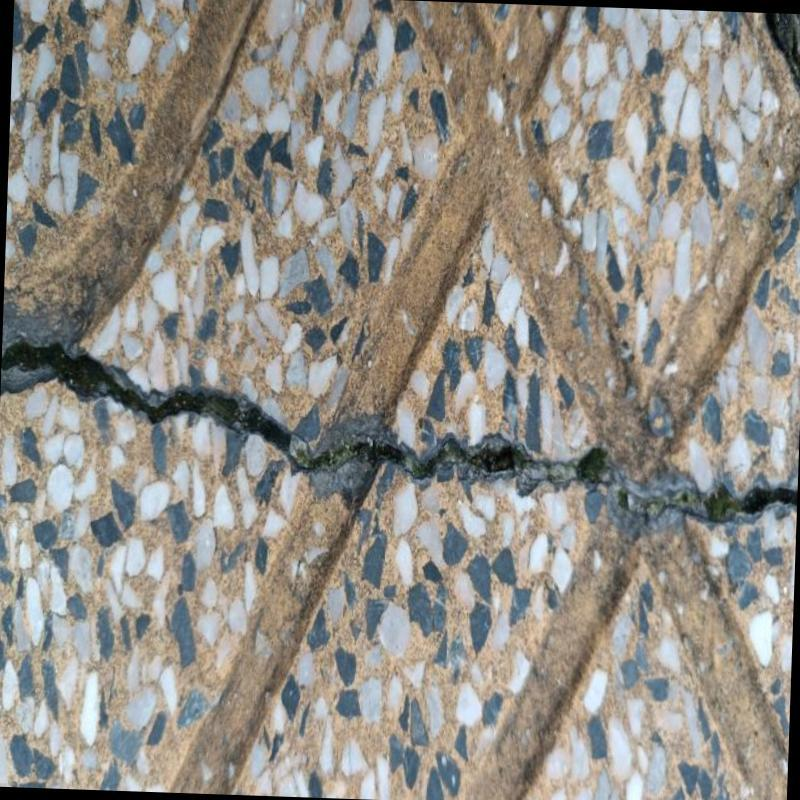pothole: (0, 341, 797, 526)
